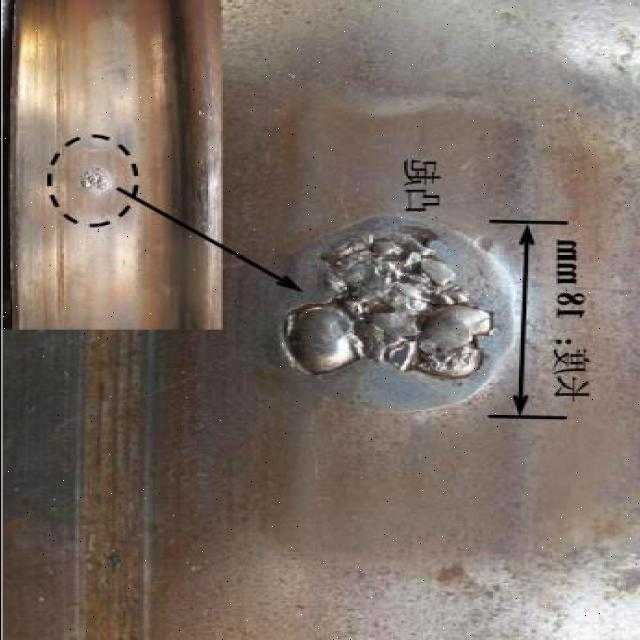geshang: (282, 230, 502, 386), (72, 160, 115, 196)
